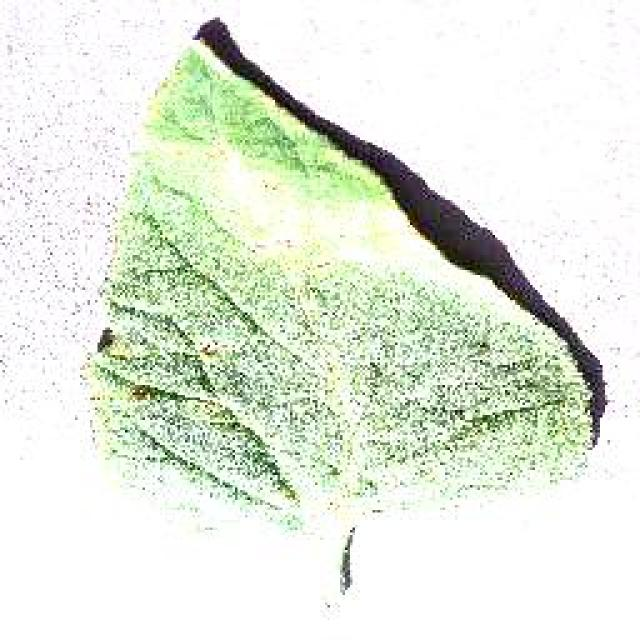Tomato___Target_Spot: (85, 18, 602, 608)
